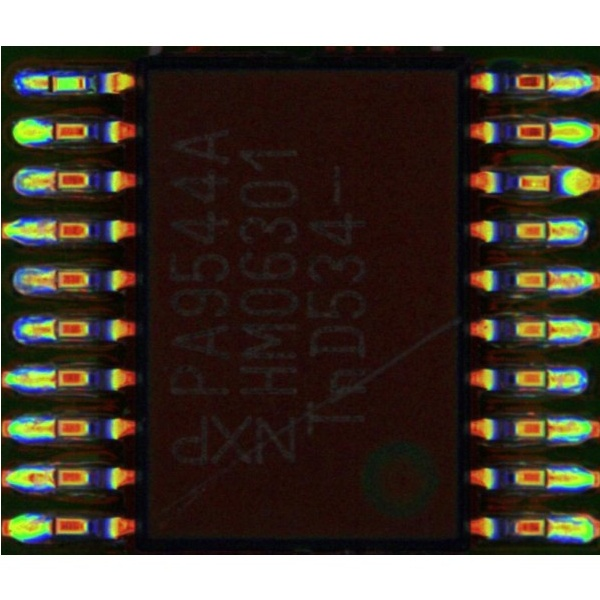Bad_podu: (530, 519, 568, 534), (526, 322, 569, 335), (32, 321, 74, 334), (526, 273, 568, 286), (32, 371, 72, 384), (32, 420, 74, 432), (530, 224, 566, 238), (34, 75, 69, 89), (37, 272, 72, 286), (33, 223, 69, 236), (528, 471, 565, 483), (527, 422, 566, 433), (33, 173, 70, 184), (528, 373, 565, 384), (532, 76, 565, 88), (532, 124, 563, 136)
